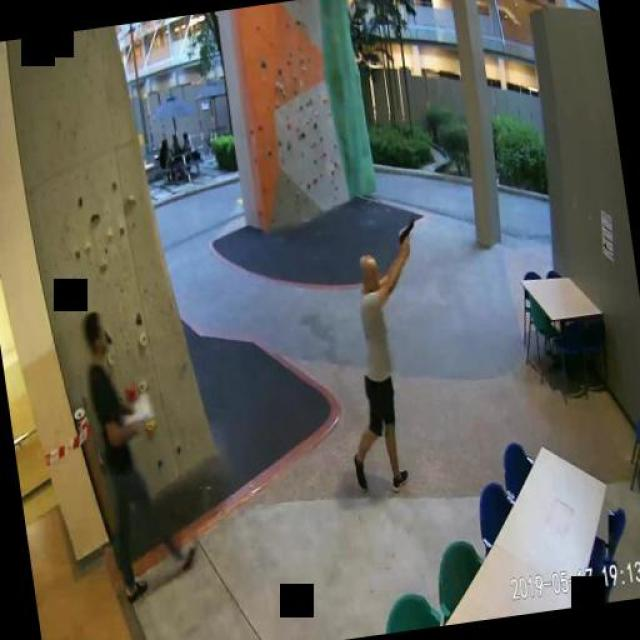gun: (395, 218, 416, 254)
